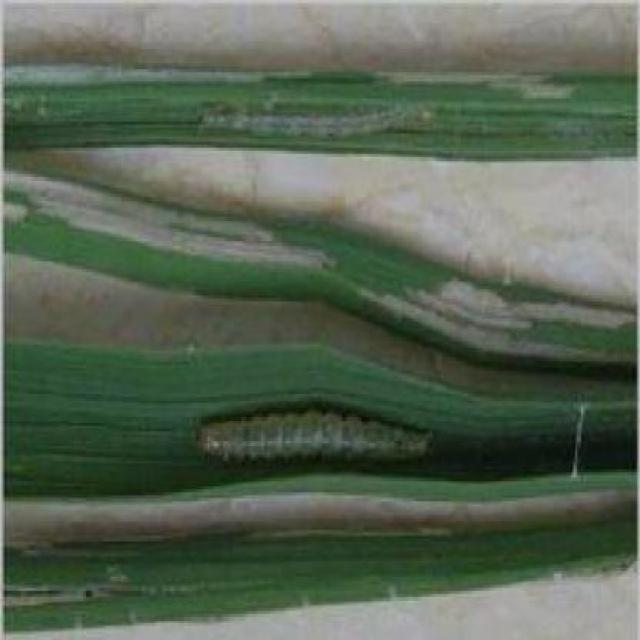leaf-folder: (188, 394, 430, 481), (185, 84, 448, 156)
